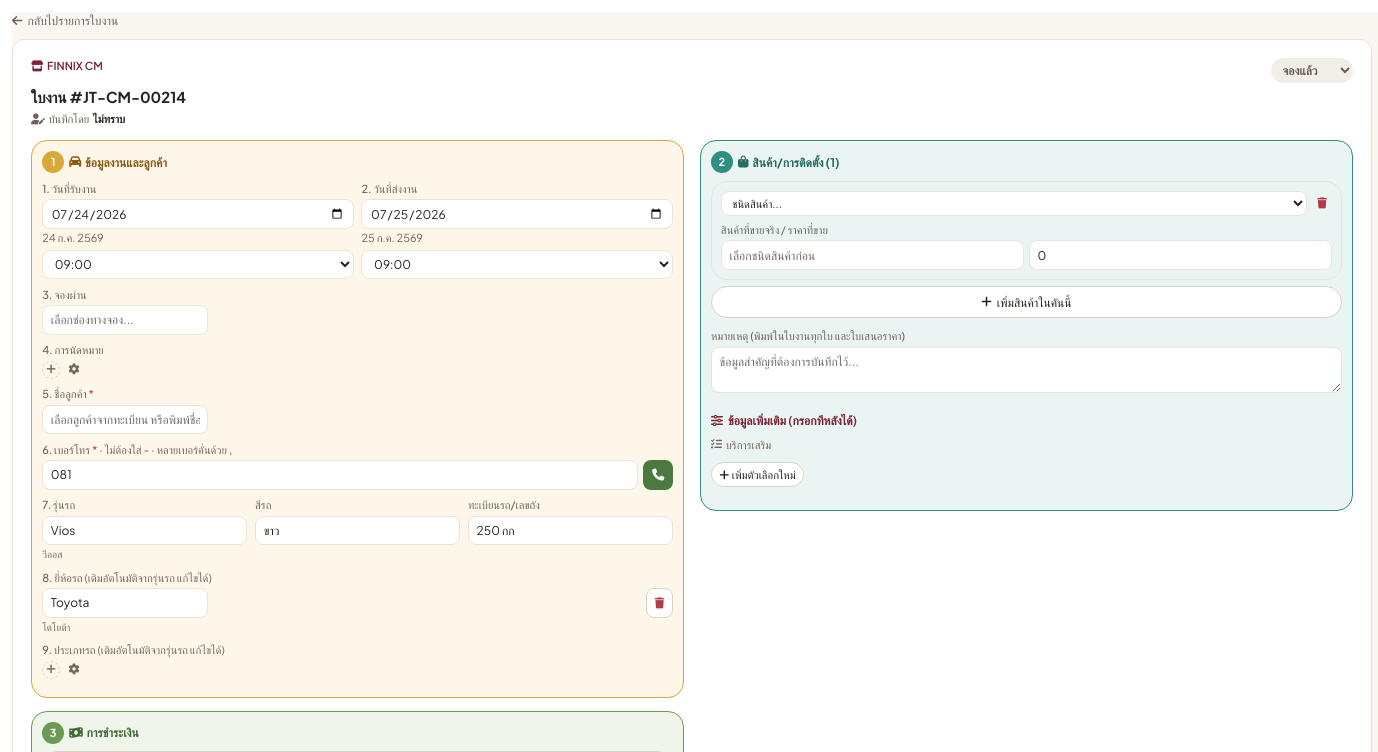
TicketDetail › (a) selecting a service category renders that item’s detail row
The width and height of the screenshot is (1378, 752).
Select "ฟิล์มกรองแสง" in the dropdown named "ชนิดสินค้า" at x=1014, y=203, box x1=721 y1=191 x2=1307 y2=216
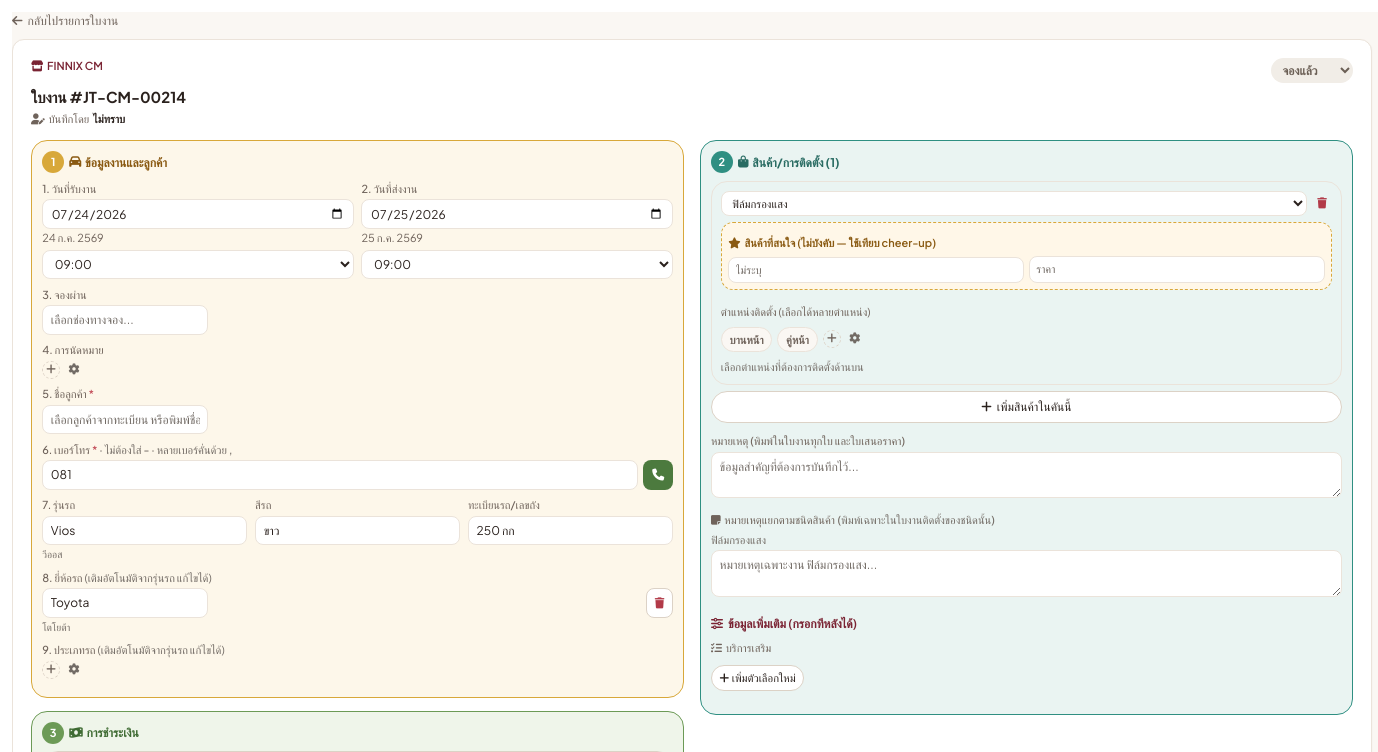
Expected: the text "สินค้าที่สนใจ (ไม่บังคับ — ใช้เทียบ cheer-up)" is shown, x1=728 y1=236 x2=936 y2=249
Expected: the text "ตำแหน่งติดตั้ง (เลือกได้หลายตำแหน่ง)" is shown, x1=721 y1=305 x2=870 y2=318
